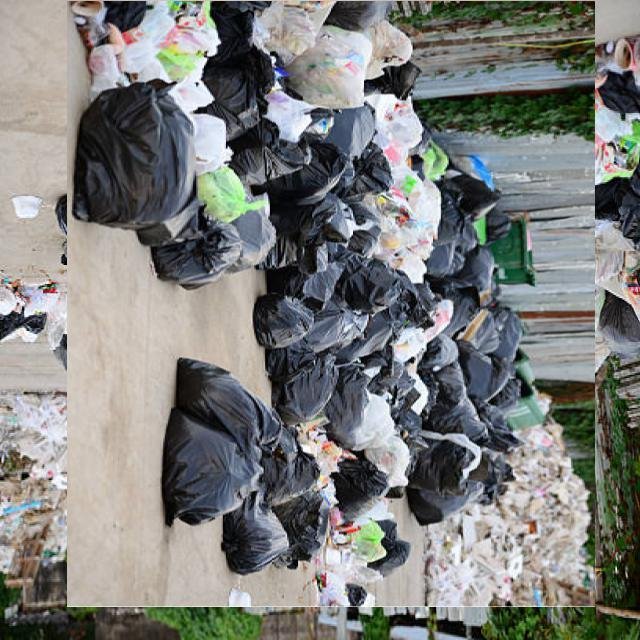Trashbag: (162, 353, 288, 530), (76, 79, 196, 228), (159, 216, 239, 284), (233, 208, 306, 276), (232, 125, 307, 185), (270, 354, 338, 419), (226, 504, 290, 572), (204, 69, 271, 133), (330, 462, 388, 525), (307, 301, 367, 360), (281, 496, 335, 560), (458, 342, 509, 406), (299, 191, 356, 248), (404, 443, 474, 488), (327, 374, 372, 444), (411, 482, 484, 524), (256, 294, 312, 348), (431, 394, 491, 442), (285, 258, 342, 306), (300, 134, 344, 196), (342, 269, 401, 315), (346, 146, 390, 204), (445, 277, 485, 340), (374, 517, 413, 578), (439, 196, 478, 252), (325, 0, 394, 31), (482, 402, 523, 454), (361, 309, 393, 362), (426, 242, 466, 283), (497, 309, 526, 363), (480, 452, 516, 494), (424, 329, 461, 368), (468, 246, 498, 291), (435, 360, 467, 401)
